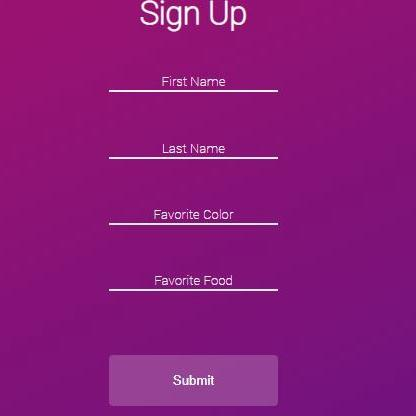button: (105, 352, 281, 409)
field_line: (102, 56, 283, 96), (103, 263, 284, 294), (107, 131, 287, 162), (107, 200, 282, 226)
